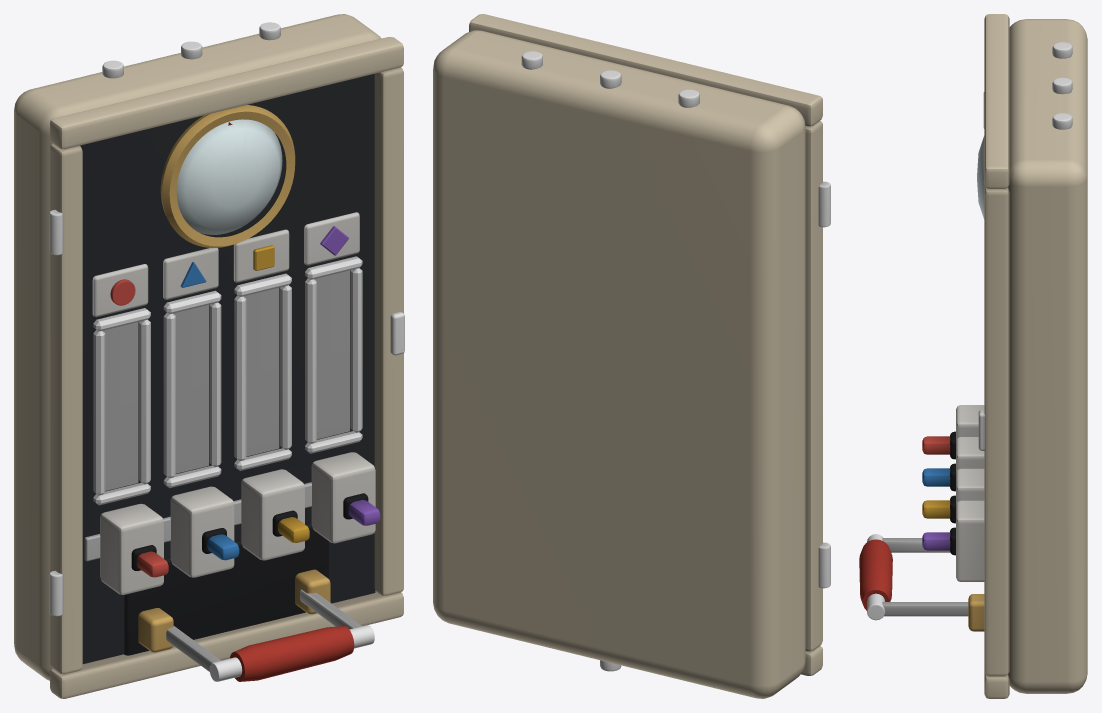
File: fusebox.glb
The picture shows the model from 3 angles, left to right: view 1: azimuth 30°, elevation 25°; view 2: azimuth 150°, elevation 25°; view 3: azimuth 270°, elevation 25°; orthographic projection. The views are drawn at different scales.
Parts seen in each view (by area): view 1: Body, Module_1, Module_2, Module_4, Module_3, DialGlass_noshadow, MainLever, Gauge_3, Gauge_1, Gauge_2, Gauge_4, Breaker_3 (+3 smaller); view 2: Body; view 3: Body, MainLever, Module_4, Module_3, Module_2, Module_1, Breaker_1, Breaker_4, Breaker_3, Breaker_2, DialGlass_noshadow.
Part boxes in pixels (<box>): Body: <box>14,14,404,698</box>; Module_1: <box>92,264,163,594</box>; Module_2: <box>163,248,234,577</box>; Module_4: <box>304,212,375,543</box>; Module_3: <box>233,229,304,560</box>; DialGlass_noshadow: <box>176,119,282,234</box>; MainLever: <box>166,589,374,681</box>; Gauge_3: <box>243,287,279,456</box>; Gauge_1: <box>102,322,138,490</box>; Gauge_2: <box>173,305,208,473</box>; Gauge_4: <box>314,270,349,439</box>; Breaker_3: <box>272,510,309,542</box>; Body: <box>433,14,830,698</box>; Body: <box>968,14,1087,698</box>; MainLever: <box>859,534,968,620</box>; Module_4: <box>956,500,984,581</box>; Module_3: <box>956,468,984,504</box>; Module_2: <box>956,437,984,472</box>; Module_1: <box>956,405,984,440</box>; Breaker_1: <box>922,431,955,459</box>; Breaker_4: <box>922,527,955,555</box>; Breaker_3: <box>922,495,955,523</box>; Breaker_2: <box>922,463,955,491</box>; DialGlass_noshadow: <box>977,136,984,219</box>.
Size of the model in its own units: 0.45 by 0.724 by 0.272.
